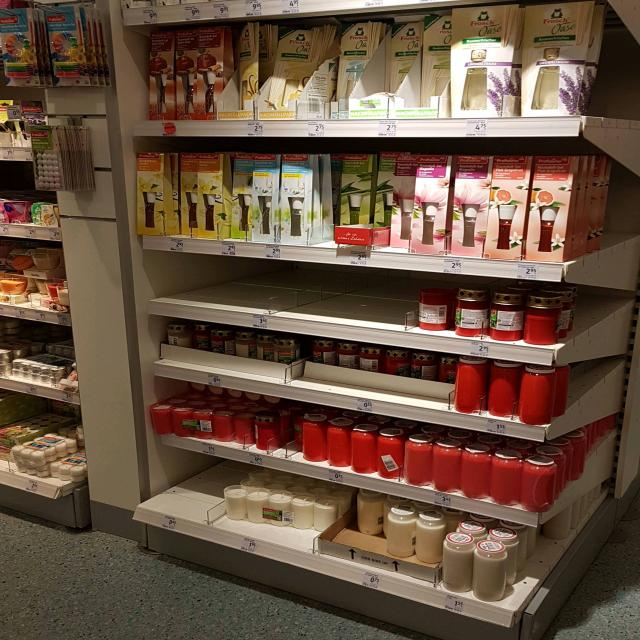void: (297, 266, 340, 330), (314, 151, 338, 264), (157, 450, 188, 535), (149, 252, 187, 320), (191, 252, 227, 323), (379, 273, 414, 345), (225, 260, 264, 324), (341, 273, 375, 344), (190, 462, 220, 535), (264, 265, 295, 329)
